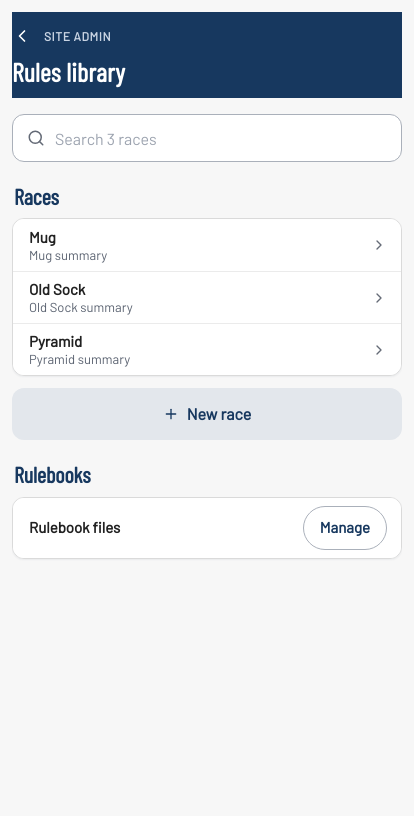
Test case: RulesLibraryPage › keeps the name when it is emptied, and says why a save failed
Click the button "Pyramid Pyramid summary" at point(56, 341), box [13, 324, 401, 376]
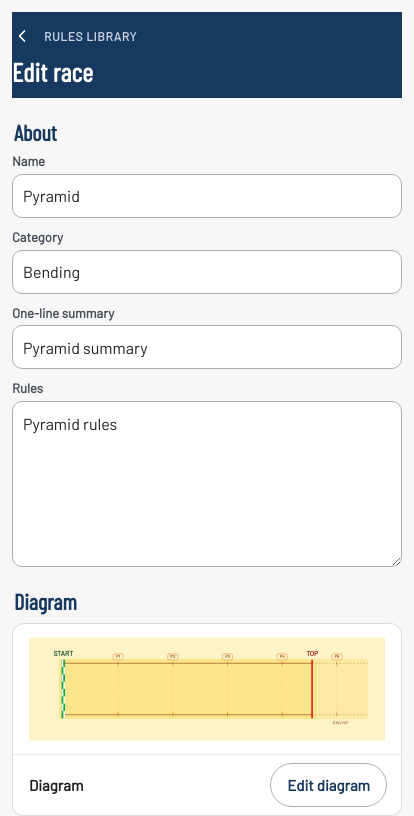
Clear the field labelled "Name" at point(207, 196), box [12, 174, 402, 218]
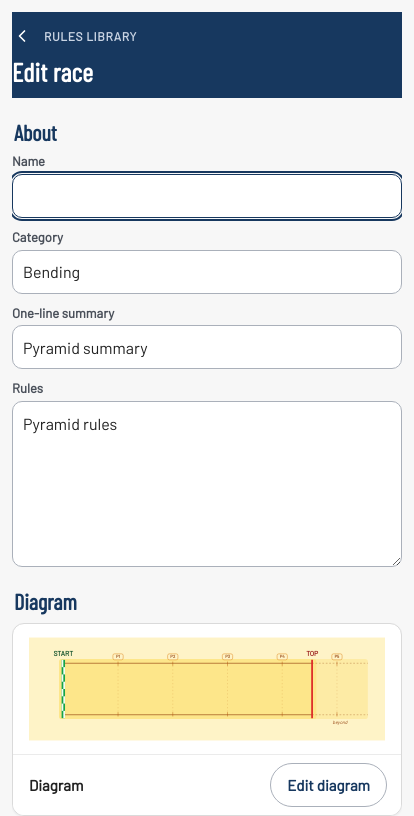
Press Tab
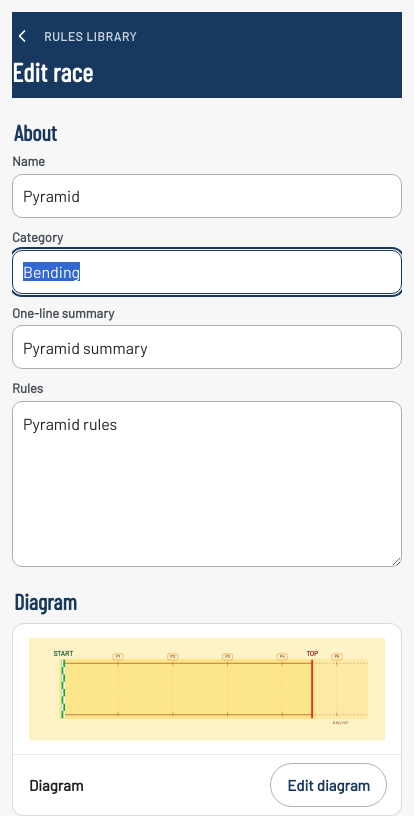
Now the field labelled "Name" holds "Pyramid", box [12, 174, 402, 218]
Type "x" into the field labelled "Category" at point(207, 272), box [12, 250, 402, 294]
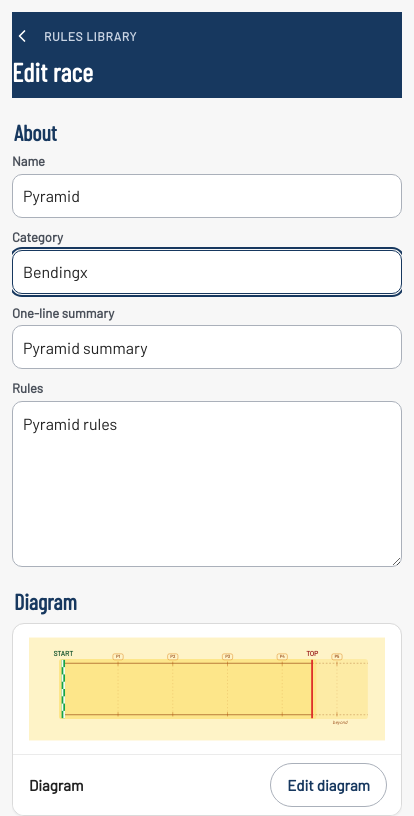
Press Tab
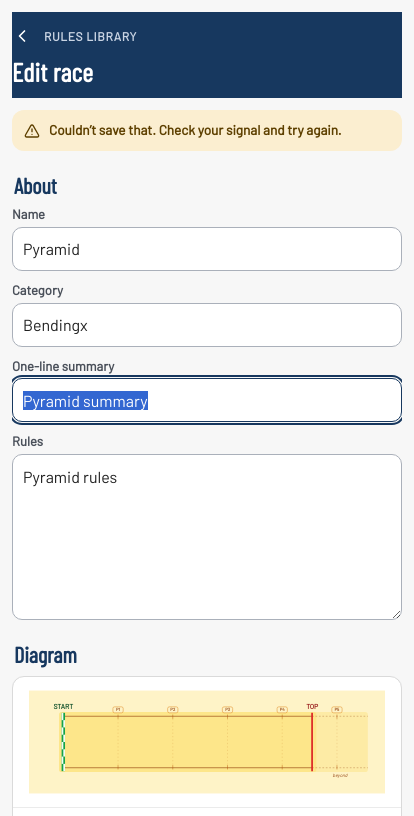
Now the message shows "Couldn’t save that", box [49, 121, 342, 138]
